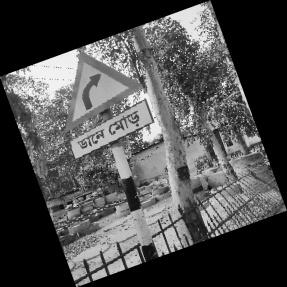Right-turn: (63, 52, 154, 161)
